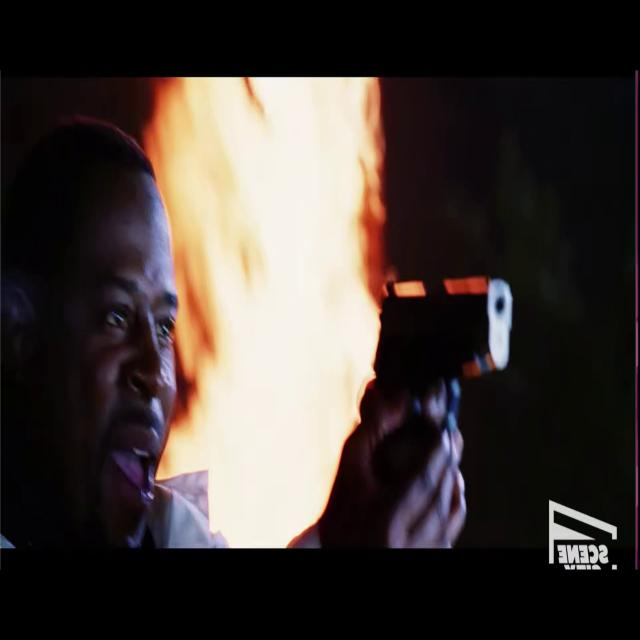weapons: (364, 245, 526, 494)
